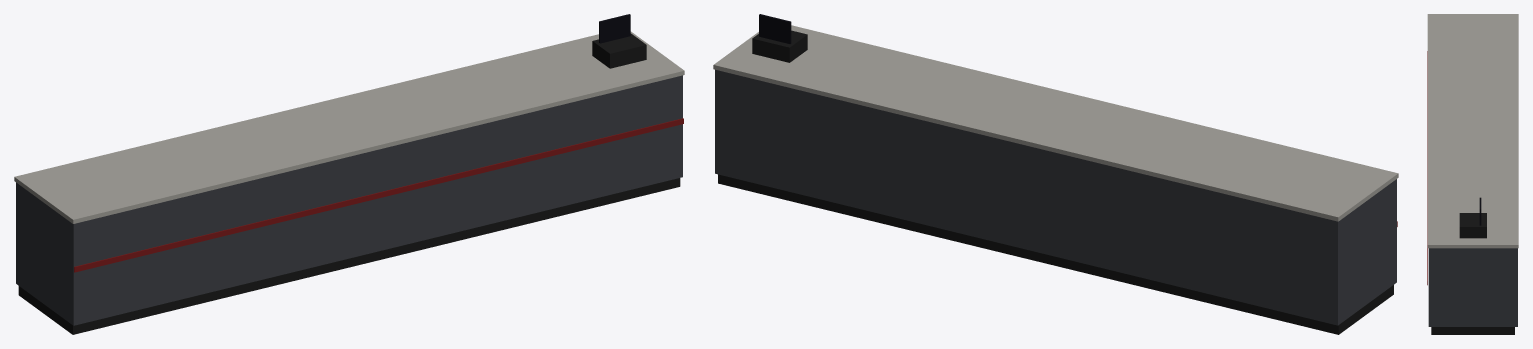
File: counter_600_110_100.glb
3 views of the same model, side by side, from view 1: azimuth 30°, elevation 25°; view 2: azimuth 150°, elevation 25°; view 3: azimuth 270°, elevation 25° (orthographic). The views are drawn at different scales.
Parts seen in each view (by area): view 1: counter_600_110_100; view 2: counter_600_110_100; view 3: counter_600_110_100.
Boxes of the visible parts, <box> form: counter_600_110_100: <box>14,14,684,334</box>; counter_600_110_100: <box>713,14,1398,334</box>; counter_600_110_100: <box>1427,14,1518,334</box>.
Size of the model in its own units: 6 by 1.44 by 1.
